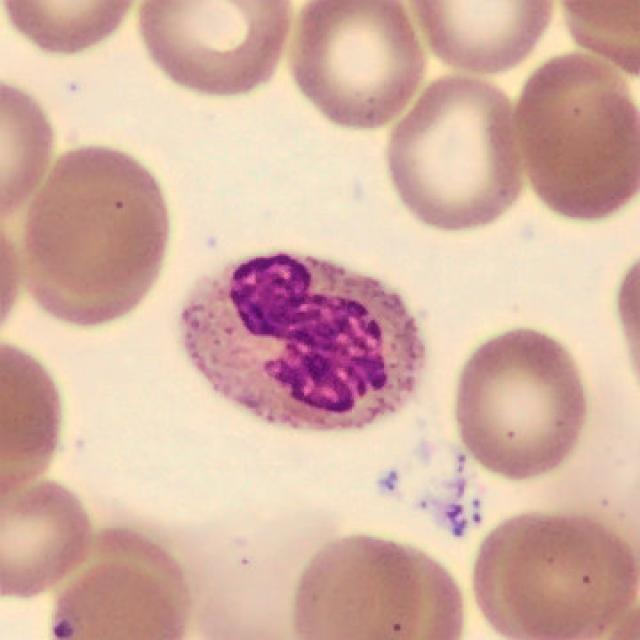Neutrofilo segmentado: (183, 252, 423, 427)
